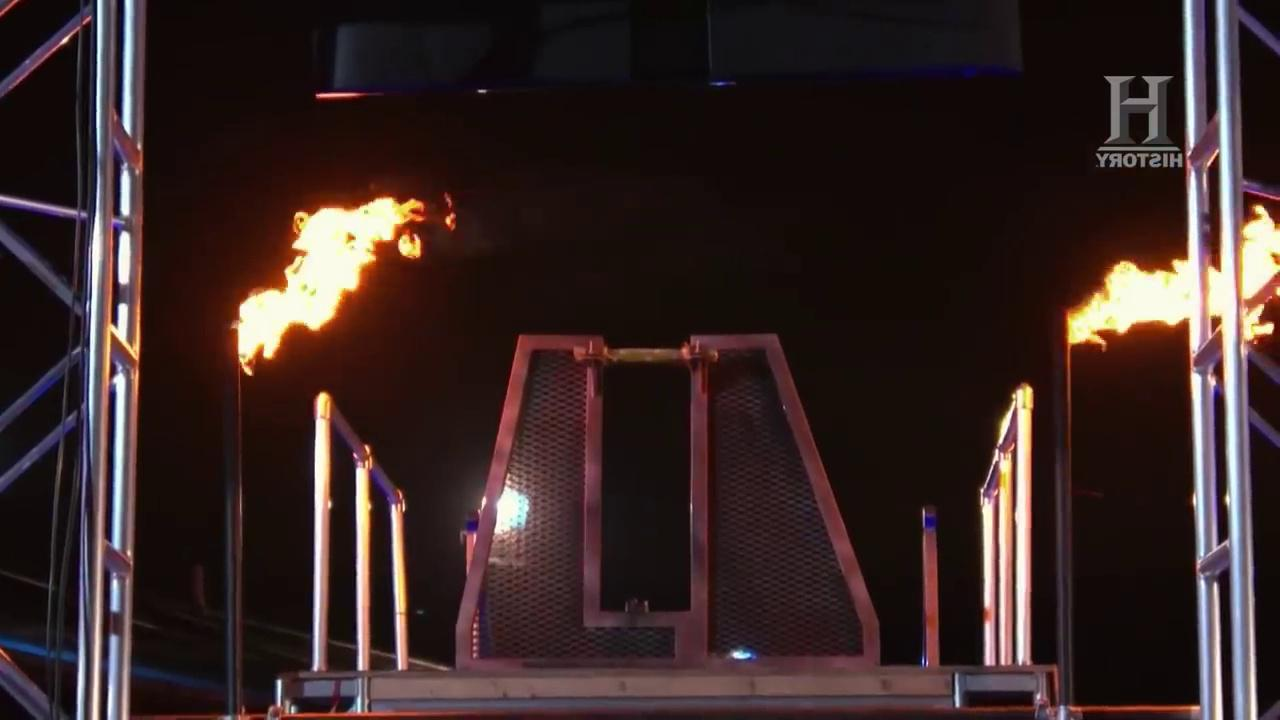Fire: (192, 180, 470, 390), (1040, 212, 1278, 366)
